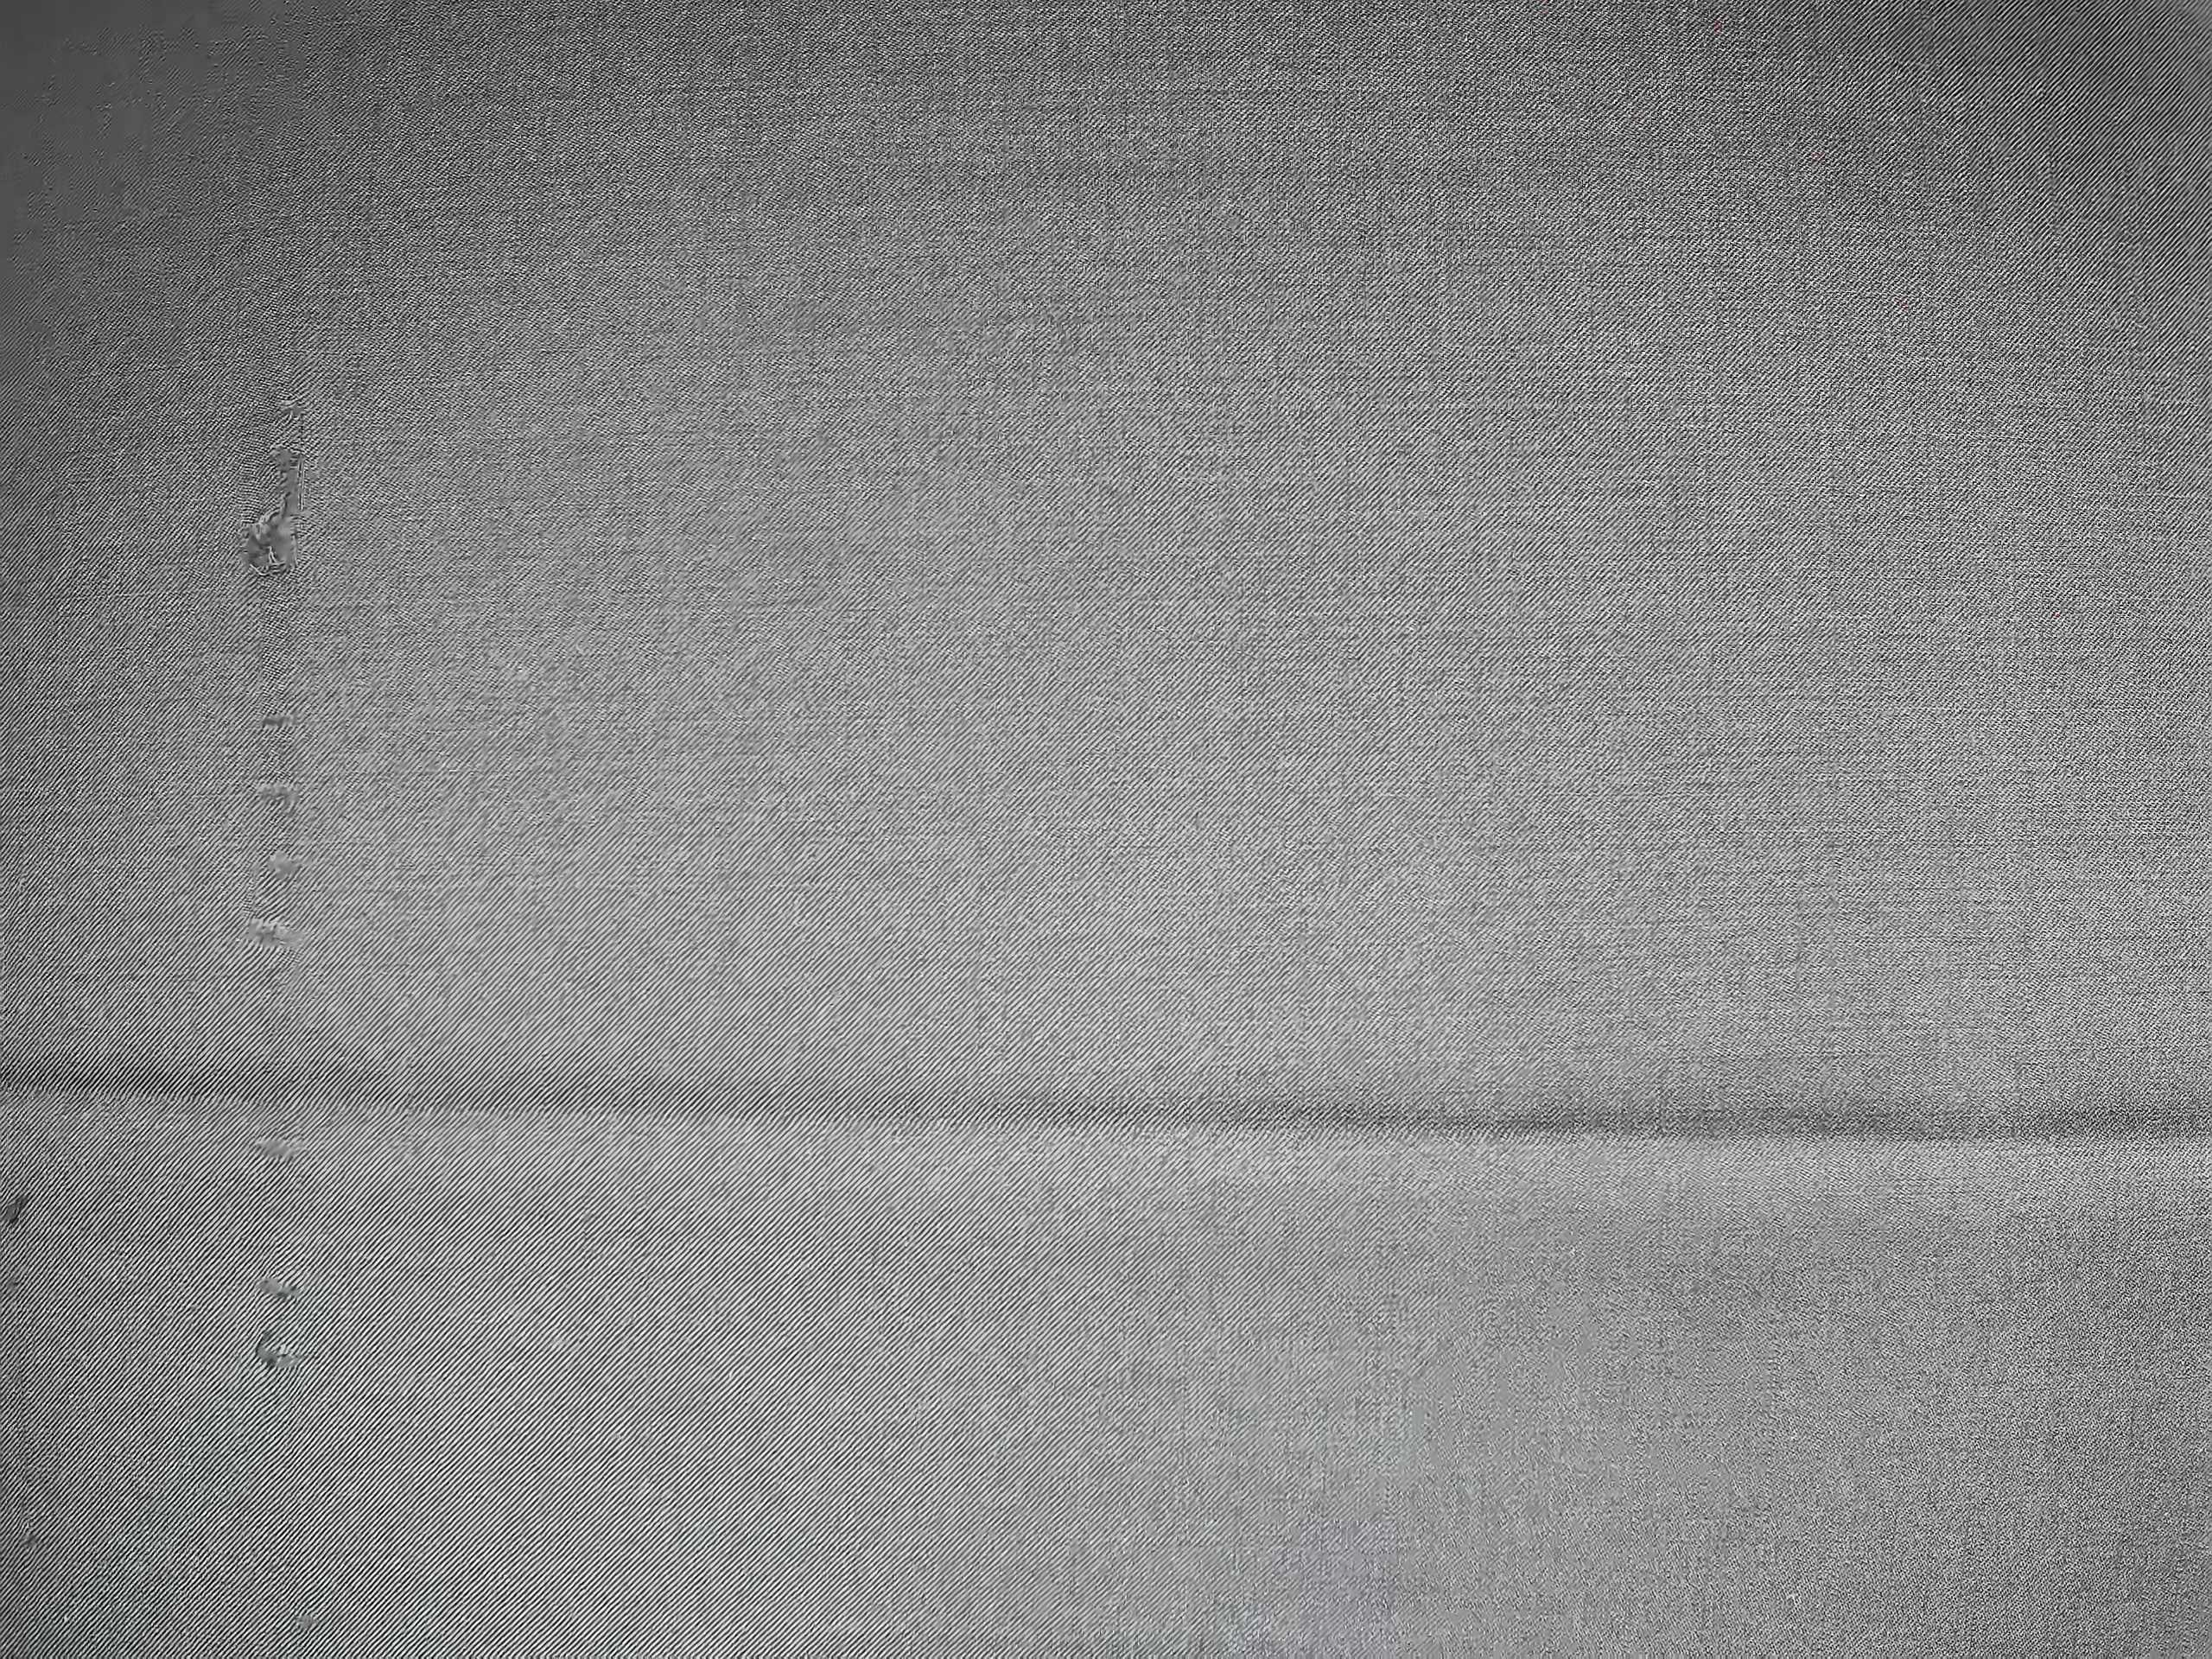puncture-hole: (223, 350, 324, 1392)
